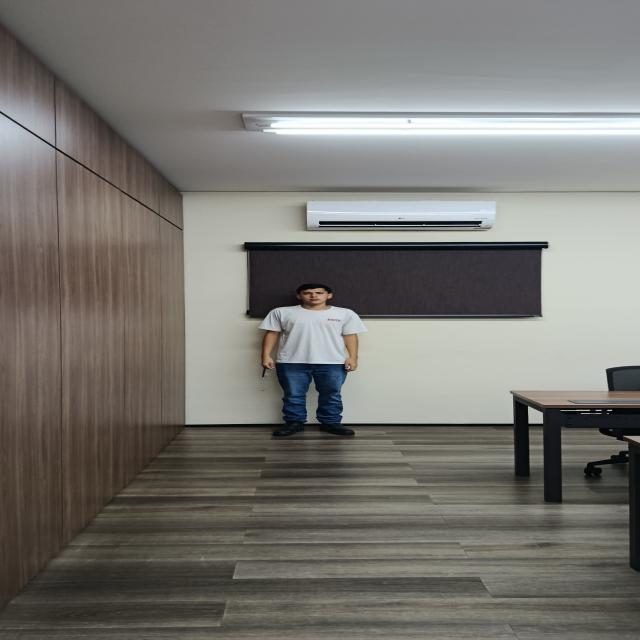sem_oculos: (294, 292, 336, 296)
